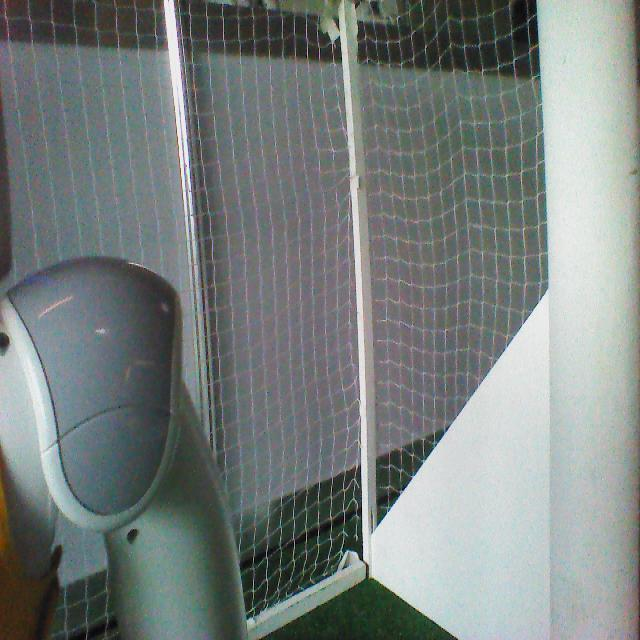goalpost: (536, 4, 639, 636)
